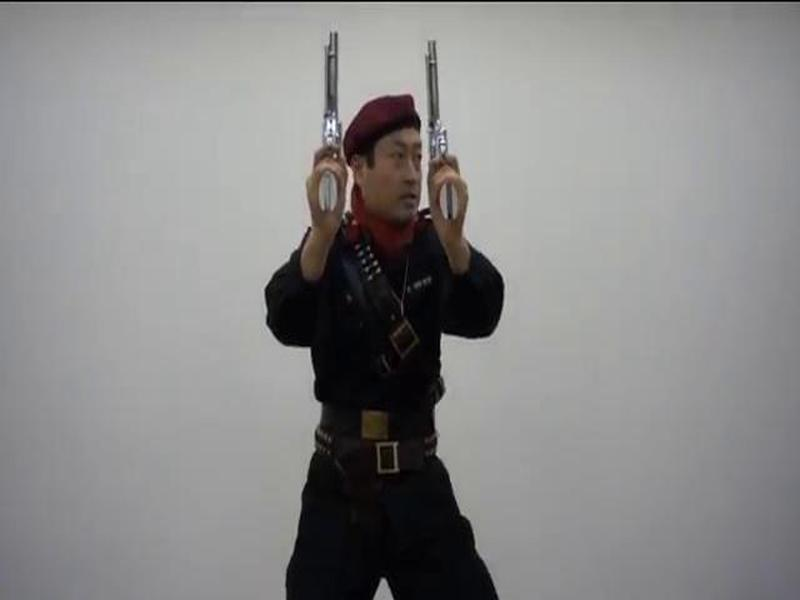Revolver: (303, 15, 348, 236), (418, 30, 465, 230)
